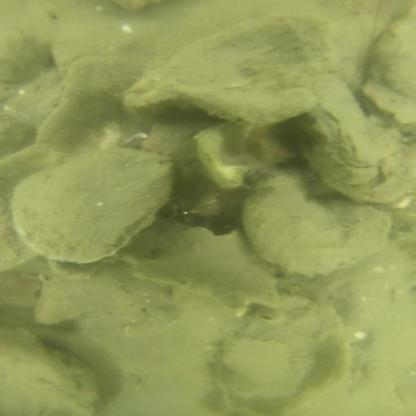Oyster- Indeterminate: (8, 148, 173, 262)
Oyster-Closed: (123, 12, 343, 126), (203, 291, 374, 416), (239, 165, 392, 275), (116, 218, 283, 313), (295, 80, 415, 202), (29, 56, 151, 154), (1, 322, 101, 416), (190, 120, 296, 189), (366, 3, 414, 121), (29, 278, 131, 326)
